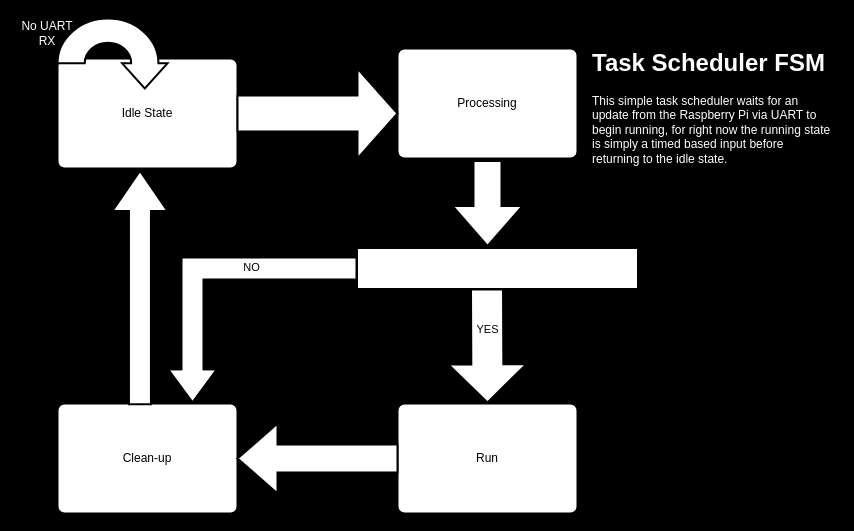
Image size: 854x531. Some labels were removed from this diagram. The shapes that lost their labels are listed below. From the top down, each one's centre as x and y in pixels, then its label:
(317,113): UART msg received from Pi
(497,268): Direction != forward OR ultrasonic reading > 50mm
